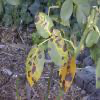Apple Scab Leaf: (25, 42, 45, 86), (47, 33, 69, 68), (60, 55, 76, 94), (33, 11, 53, 37)
